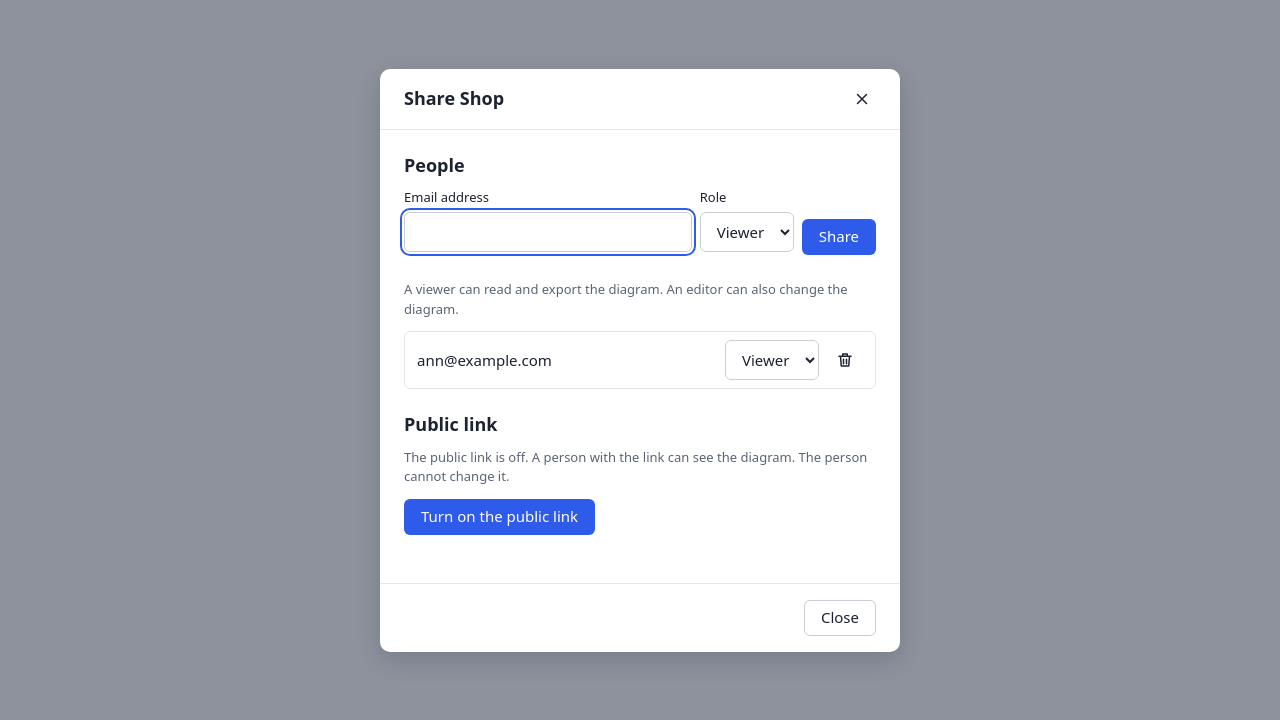
Test case: ShareDialog › removes a share
Click the button named "Remove the share of ann@example.com" at (845,360), box [827,342,863,378]
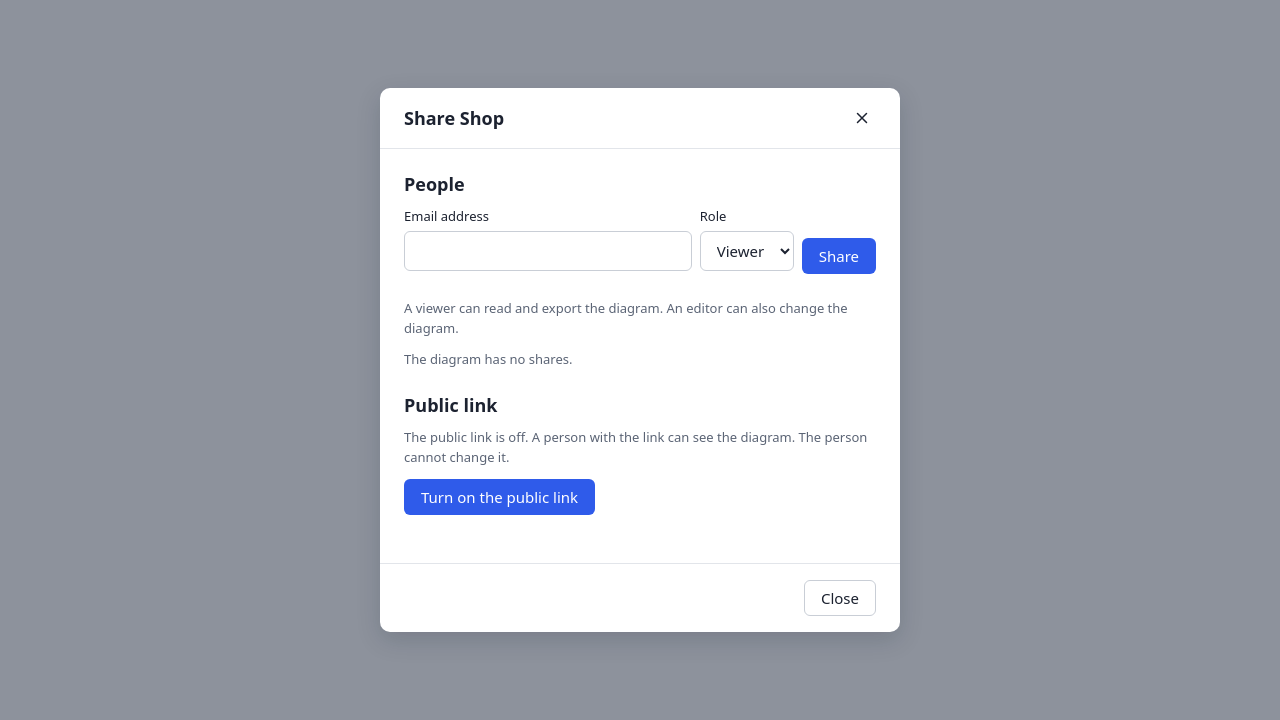
expect the text "The diagram has no shares." is shown: met, box [404,350,572,368]
